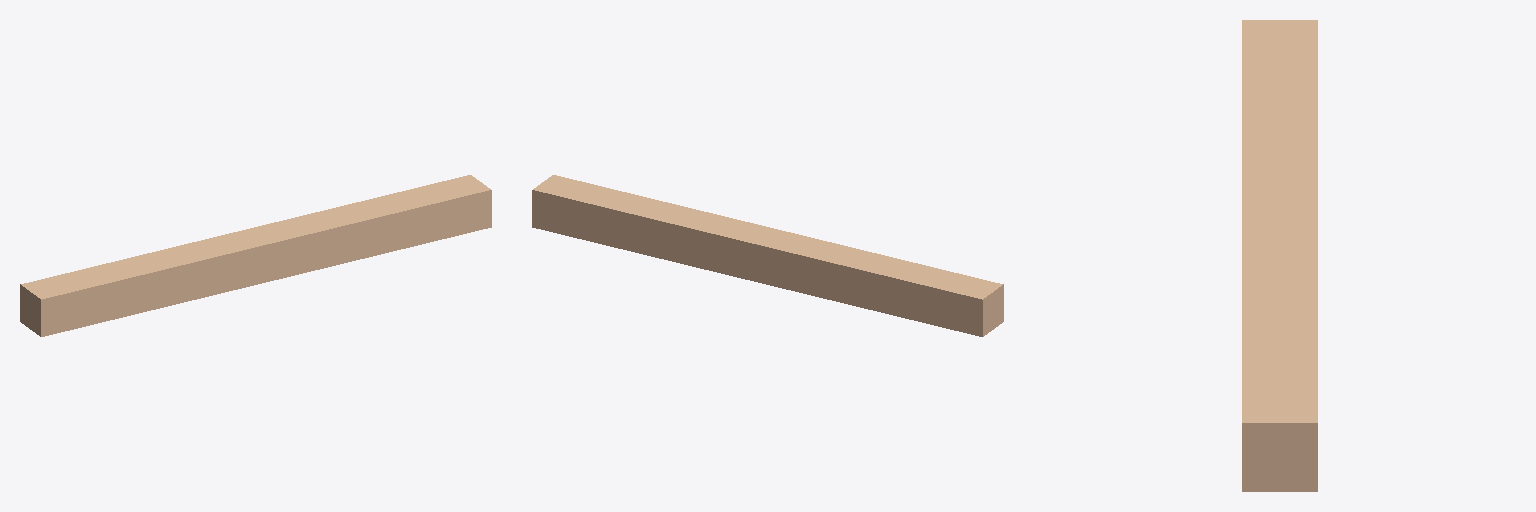
robot.urdf — hook:
<?xml version="0.0" ?>
<robot name="hook">
  <link name="handle_bar">
    <contact>
      <lateral_friction value="1"/>
      <rolling_friction value="0.0"/>
      <contact_cfm value="0.0"/>
      <contact_erp value="1.0"/>
    </contact>
    <inertial>
      <origin rpy="0 0 0" xyz="0 0 0"/>
       <mass value=".05"/>
       <inertia ixx="0.0001" ixy="0" ixz="0" iyy="0.0001" iyz="0" izz="0.0001"/>
    </inertial>
    <visual>
      <origin rpy="0 0 0" xyz="0.0 0.0 0.0"/>
      <geometry>
        <box size="0.1 0.04 0.04"/>
      </geometry>
      <material name="long_bar_texture">
        <color rgba="0.9297 0.7930 0.6758 1" />
      </material>
    </visual>
    <collision>
      <origin rpy="0 0 0" xyz="0.0 0.0 0.0"/>
      <geometry>
        <box size="0.1 0.04 0.04"/>
      </geometry>
    </collision>
  </link>

  <joint name="hook_joint1" type="fixed">
    <!-- <safety_controller k_position="100.0" k_velocity="40.0" soft_lower_limit="-1.7628" soft_upper_limit="1.7628"/> -->
    <origin rpy="0 0 0" xyz="0.25 0.0 0.0"/>
    <parent link="handle_bar"/>
    <child link="long_bar"/>
  </joint>



  <link name="long_bar">
    <contact>
      <lateral_friction value="1"/>
      <rolling_friction value="0.0"/>
      <contact_cfm value="0.0"/>
      <contact_erp value="1.0"/>
    </contact>
    <inertial>
      <origin rpy="0 0 0" xyz="0 0 0"/>
       <mass value=".05"/>
       <inertia ixx="0.0001" ixy="0" ixz="0" iyy="0.0001" iyz="0" izz="0.0001"/>
    </inertial>
    <visual>
      <origin rpy="0 0 0" xyz="0.0 0.0 0.0"/>
      <geometry>
        <box size="0.4 0.04 0.04"/>
      </geometry>
      <material name="long_bar_texture">
        <color rgba="0.9297 0.7930 0.6758 1" />
      </material>
    </visual>
    <collision>
      <origin rpy="0 0 0" xyz="0.0 0.0 0.0"/>
      <geometry>
        <box size="0.4 0.04 0.04"/>
      </geometry>
    </collision>
  </link>

 
</robot>

--- Render facts (derived) ---
The picture shows the robot from 3 angles, left to right: view 1: azimuth 30°, elevation 25°; view 2: azimuth 150°, elevation 25°; view 3: azimuth 270°, elevation 25°; orthographic projection.
Model hook with 2 links and 1 joints (1 fixed), rooted at handle_bar, posed every joint at zero.
Links seen in each view (by area): view 1: long_bar, handle_bar; view 2: long_bar, handle_bar; view 3: long_bar, handle_bar.
Boxes of the visible links, x1,y1,x2,y2 form: long_bar: [111, 175, 491, 314]; handle_bar: [20, 263, 130, 336]; long_bar: [532, 175, 912, 314]; handle_bar: [893, 263, 1003, 336]; long_bar: [1242, 101, 1317, 491]; handle_bar: [1242, 20, 1317, 100].
Size in the robot's own frame: 0.5 by 0.04 by 0.04 metres.
Geometry: primitives only (box / cylinder / sphere), no mesh files.